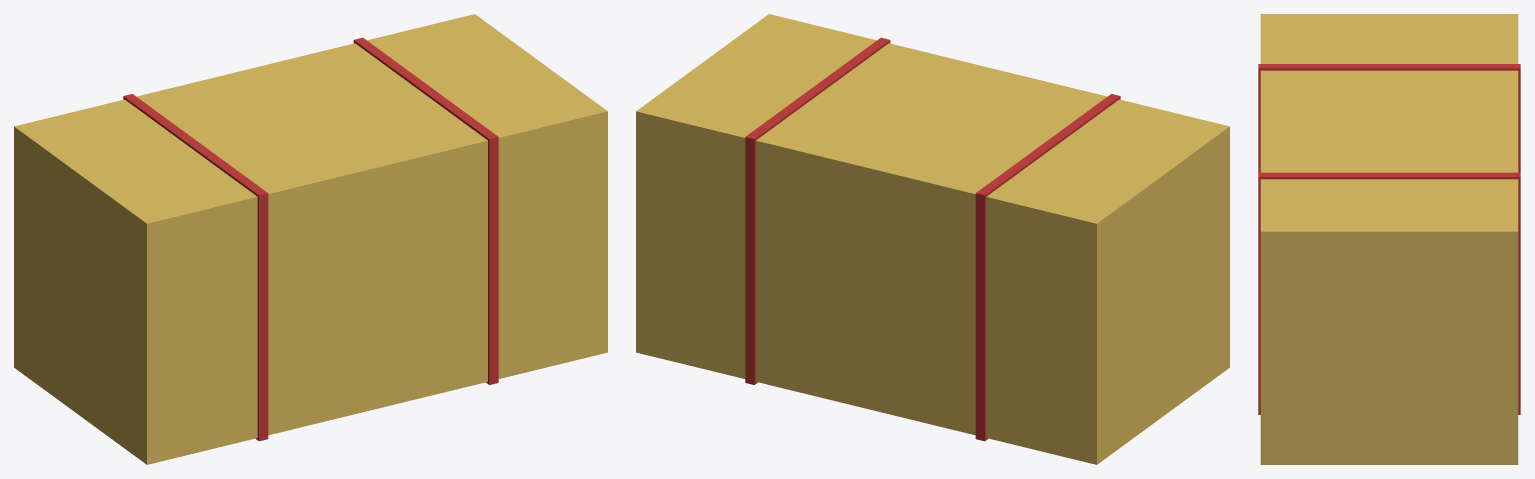
Rendered from hay_bale.glb.
3 renders of one model, left to right at view 1: azimuth 30°, elevation 25°; view 2: azimuth 150°, elevation 25°; view 3: azimuth 270°, elevation 25°, orthographic. The views are drawn at different scales.
Parts seen in each view (by area): view 1: bale_hay, strings_hay_string (×2); view 2: bale_hay, strings_hay_string (×2); view 3: bale_hay, strings_hay_string (×2).
Boxes of the visible parts, x1,y1,x2,y2 form: bale_hay: (14,14,607,464); strings_hay_string (×2): (123,37,498,441); bale_hay: (636,14,1229,464); strings_hay_string (×2): (745,37,1120,441); bale_hay: (1260,14,1518,464); strings_hay_string (×2): (1258,64,1520,414).
Bounding box in the file's own units: 1 × 0.51 × 0.51.
